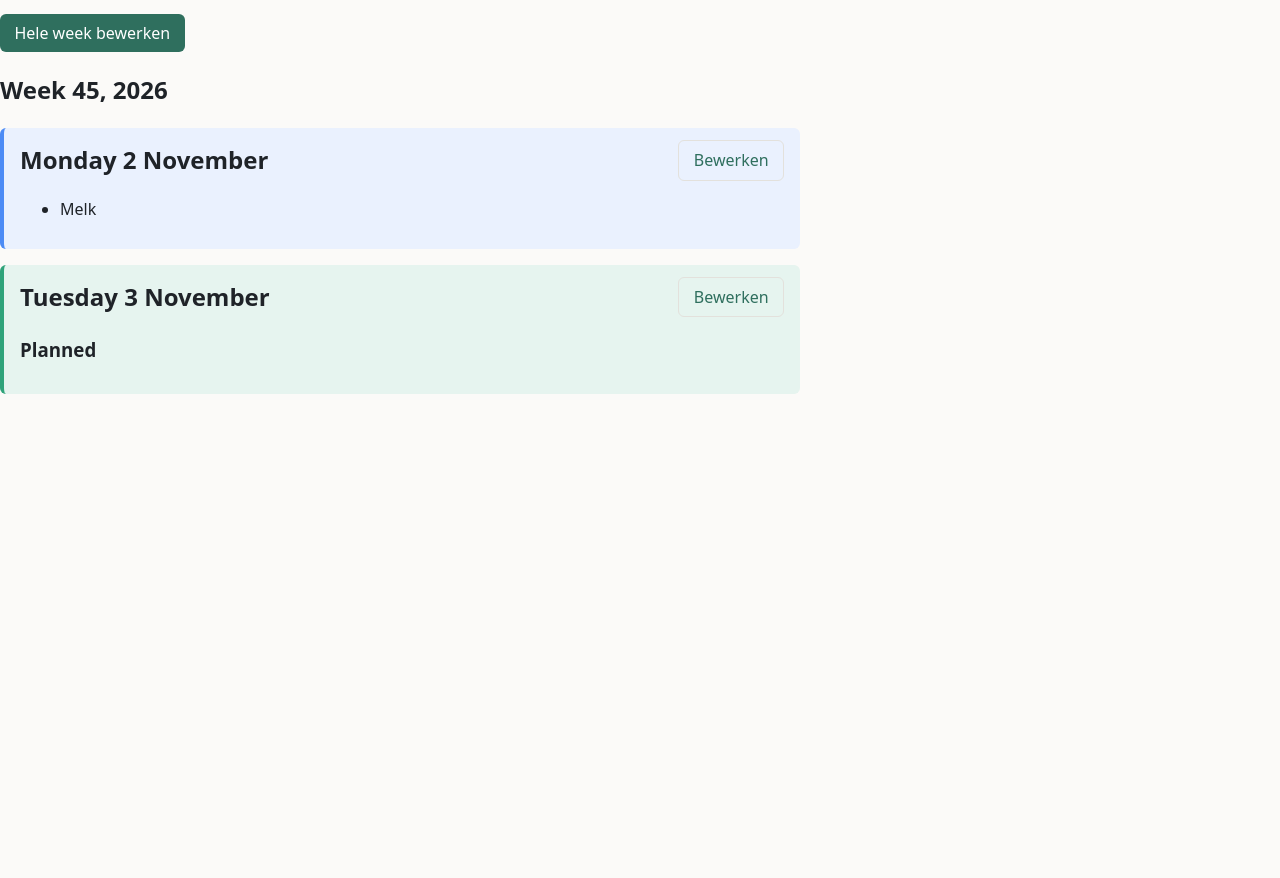
Test: AgendaView › keeps a day's edit and offers a reload when that day changed elsewhere
Expected: the heading "Tuesday 3 November" is shown, [20, 279, 270, 315]
Click the button "Bewerken" in the row of "Tuesday 3 November".
click(731, 297)  # box [678, 277, 784, 317]
(page scrolled)
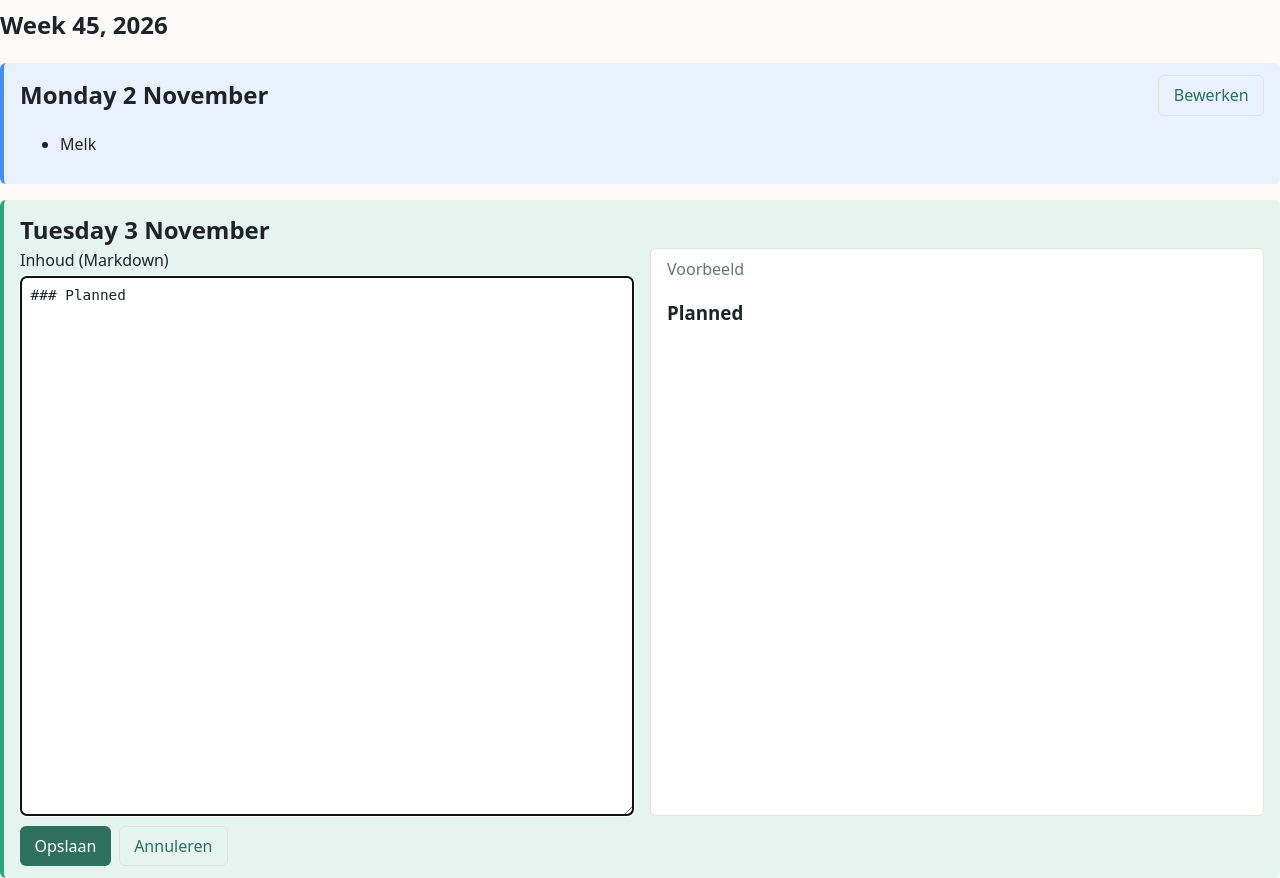
Type " mijn tekst" into the text box labelled "Inhoud (Markdown)".
click(327, 546); type(" mijn tekst")  # box [20, 276, 634, 816]
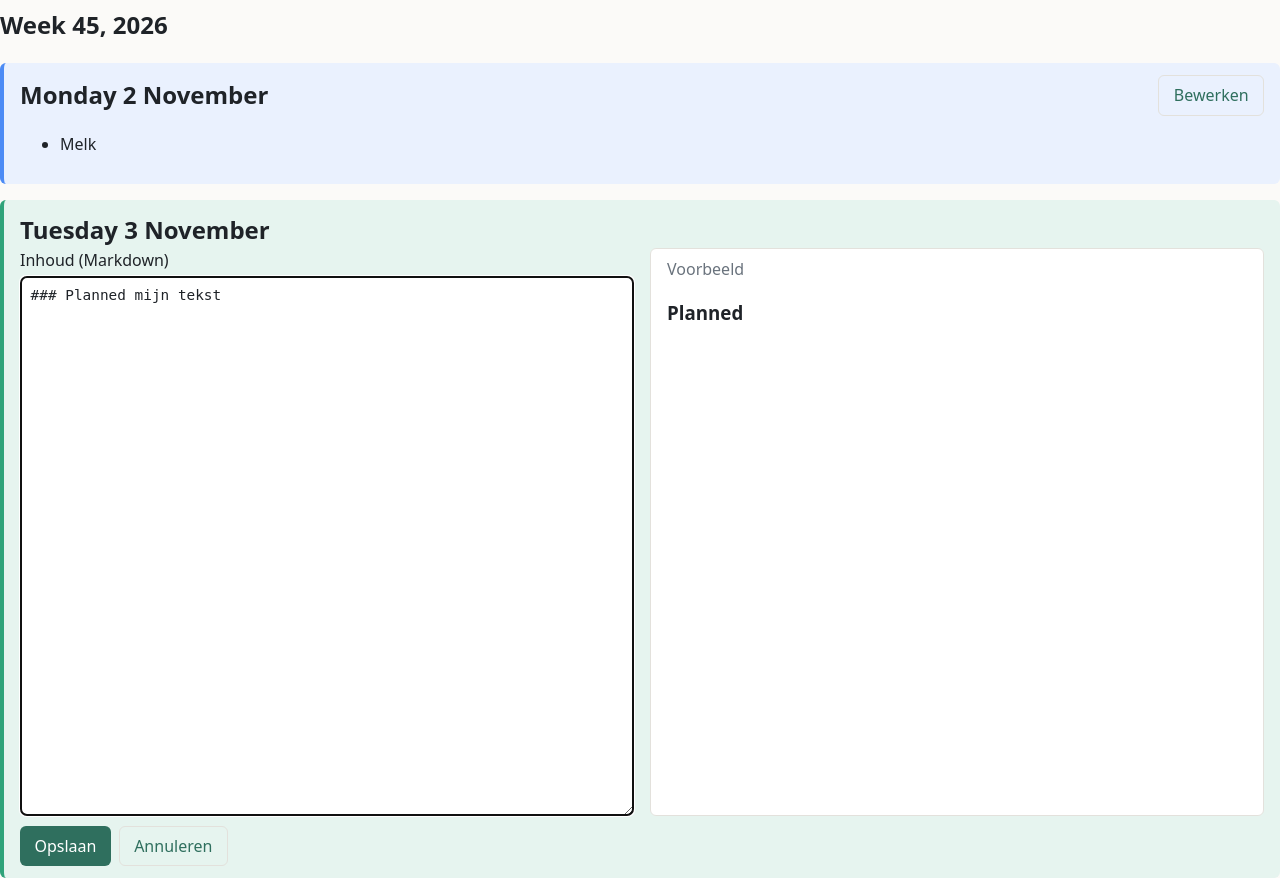
Click the button "Opslaan".
click(65, 846)  # box [20, 826, 111, 866]
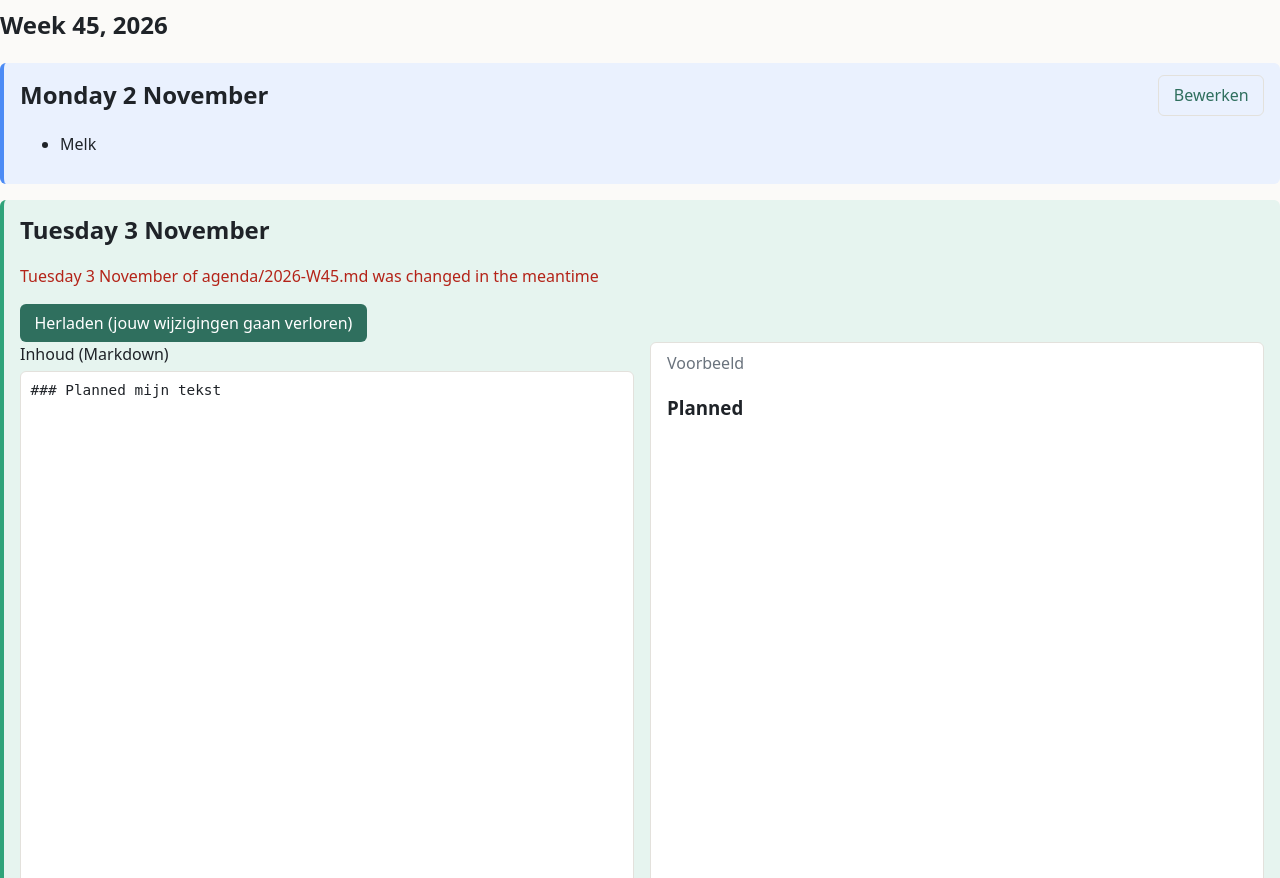
Result: the message shows "changed in the meantime" at [20, 265, 599, 287]
Click the button "Herladen (jouw wijzigingen gaan verloren)".
click(193, 323)  # box [20, 304, 367, 342]
(page scrolled)
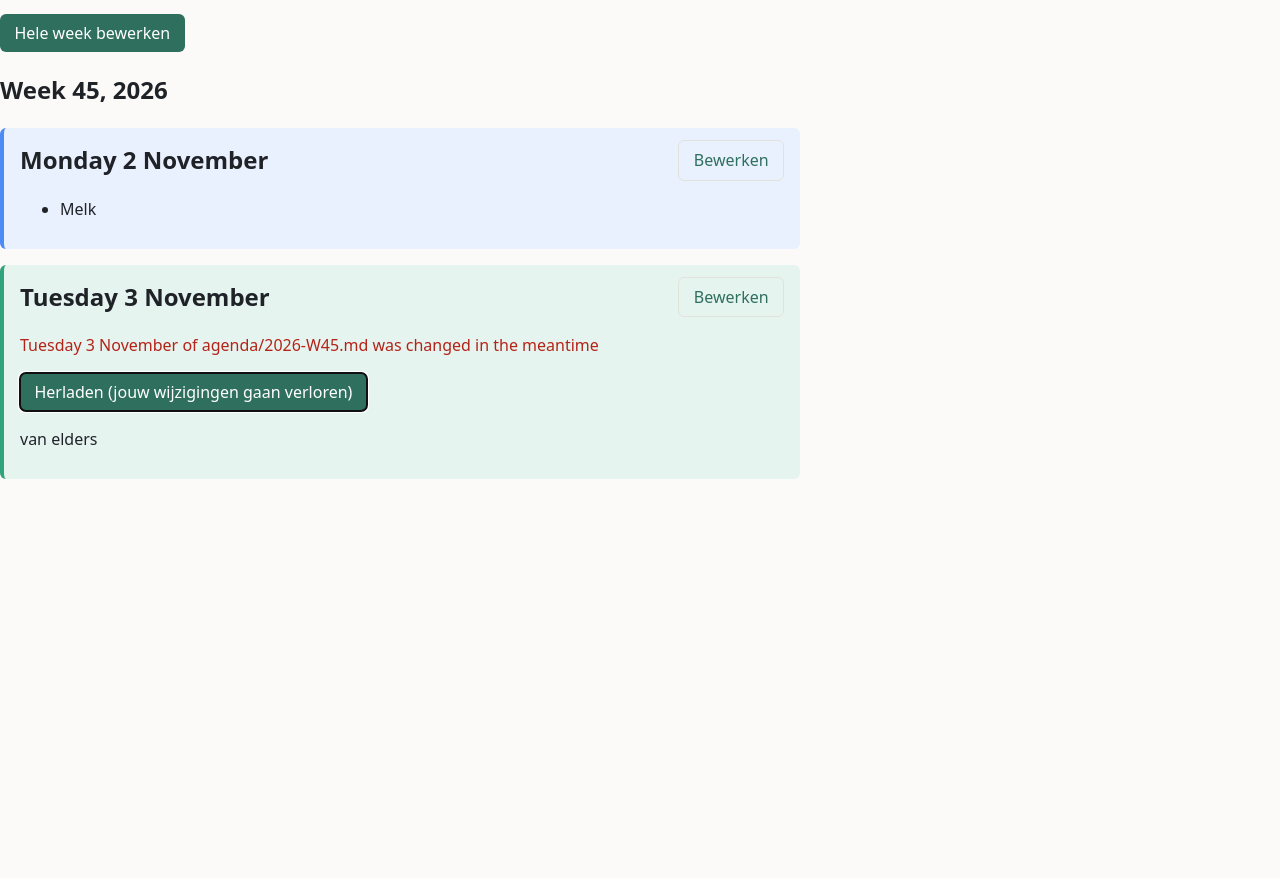
Result: the text "van elders" is shown at [20, 428, 98, 450]
